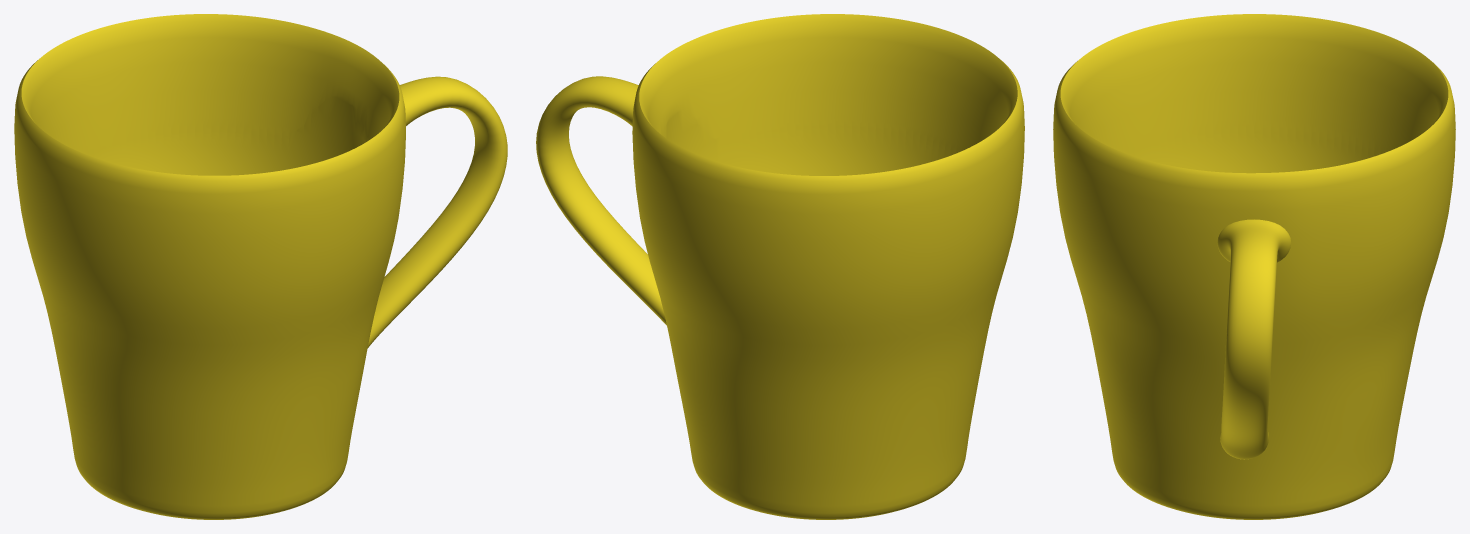
File: cup.fbx
The picture shows the model from 3 angles, left to right: view 1: azimuth 30°, elevation 25°; view 2: azimuth 150°, elevation 25°; view 3: azimuth 270°, elevation 25°; orthographic projection.
Visible parts, largest first — view 1: cup, Cube.003; view 2: cup, Cube.003; view 3: cup, Cube.003.
Part boxes in pixels (x1=…): cup: x1=14, y1=14, x2=405, y2=519; Cube.003: x1=367, y1=76, x2=507, y2=347; cup: x1=632, y1=14, x2=1024, y2=519; Cube.003: x1=536, y1=76, x2=666, y2=325; cup: x1=1053, y1=14, x2=1455, y2=519; Cube.003: x1=1217, y1=219, x2=1291, y2=459.
Size of the model in its own units: 15.6 by 12.06 by 11.81.
